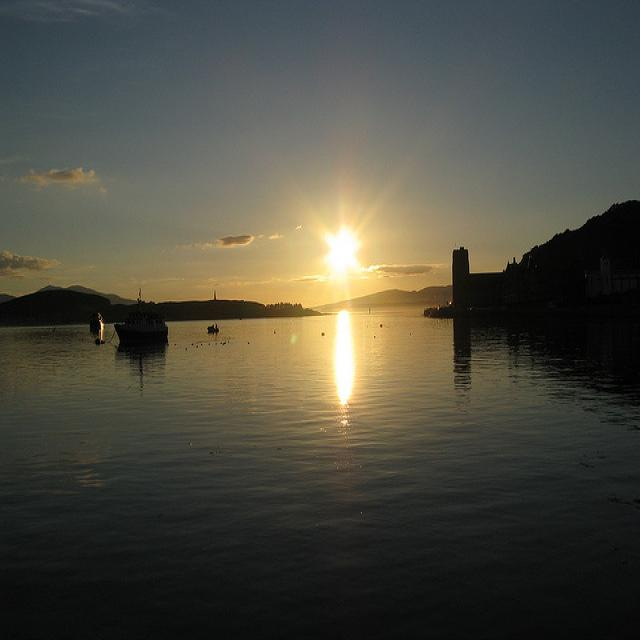Boat: (124, 287, 194, 380)
